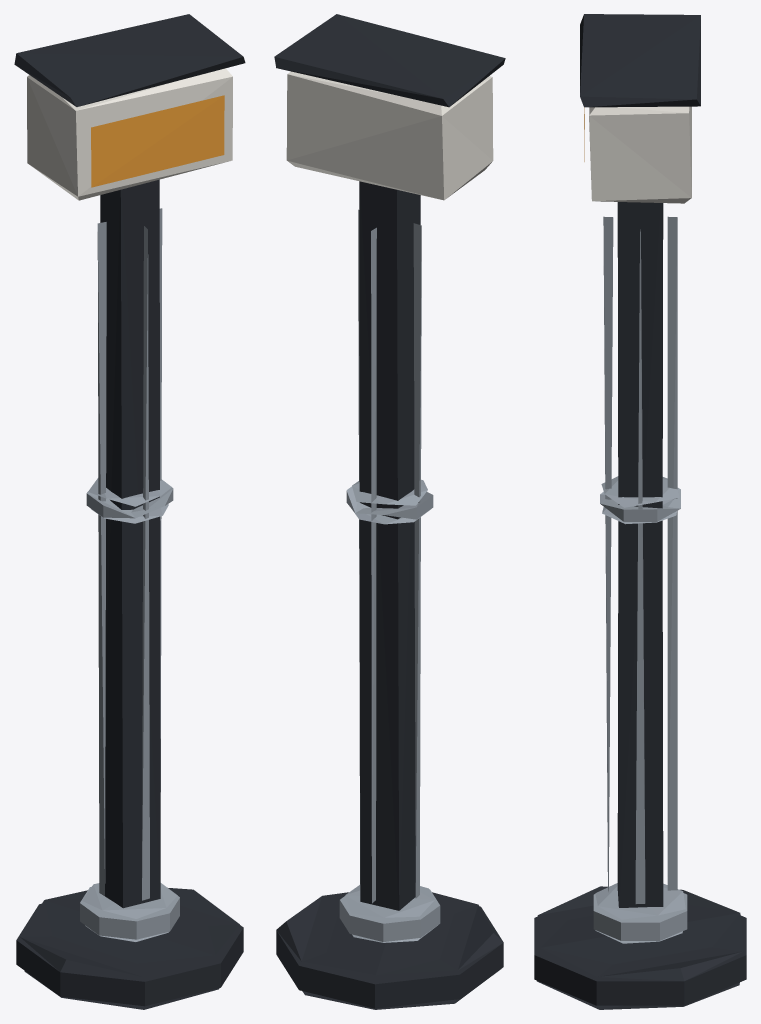
The model's file is light_pylon_lod1.obj.
The picture shows the model from 3 angles, left to right: view 1: azimuth 30°, elevation 25°; view 2: azimuth 150°, elevation 25°; view 3: azimuth 270°, elevation 25°; orthographic projection.
Parts seen in each view (by area): view 1: light_pylon_lod1; view 2: light_pylon_lod1; view 3: light_pylon_lod1.
Part boxes in pixels (bbox=[...]): light_pylon_lod1: bbox=[14, 14, 245, 1009]; light_pylon_lod1: bbox=[274, 14, 505, 1009]; light_pylon_lod1: bbox=[534, 14, 746, 1009].
Size of the model in its own units: 0.6282 by 2.98 by 0.6282.
